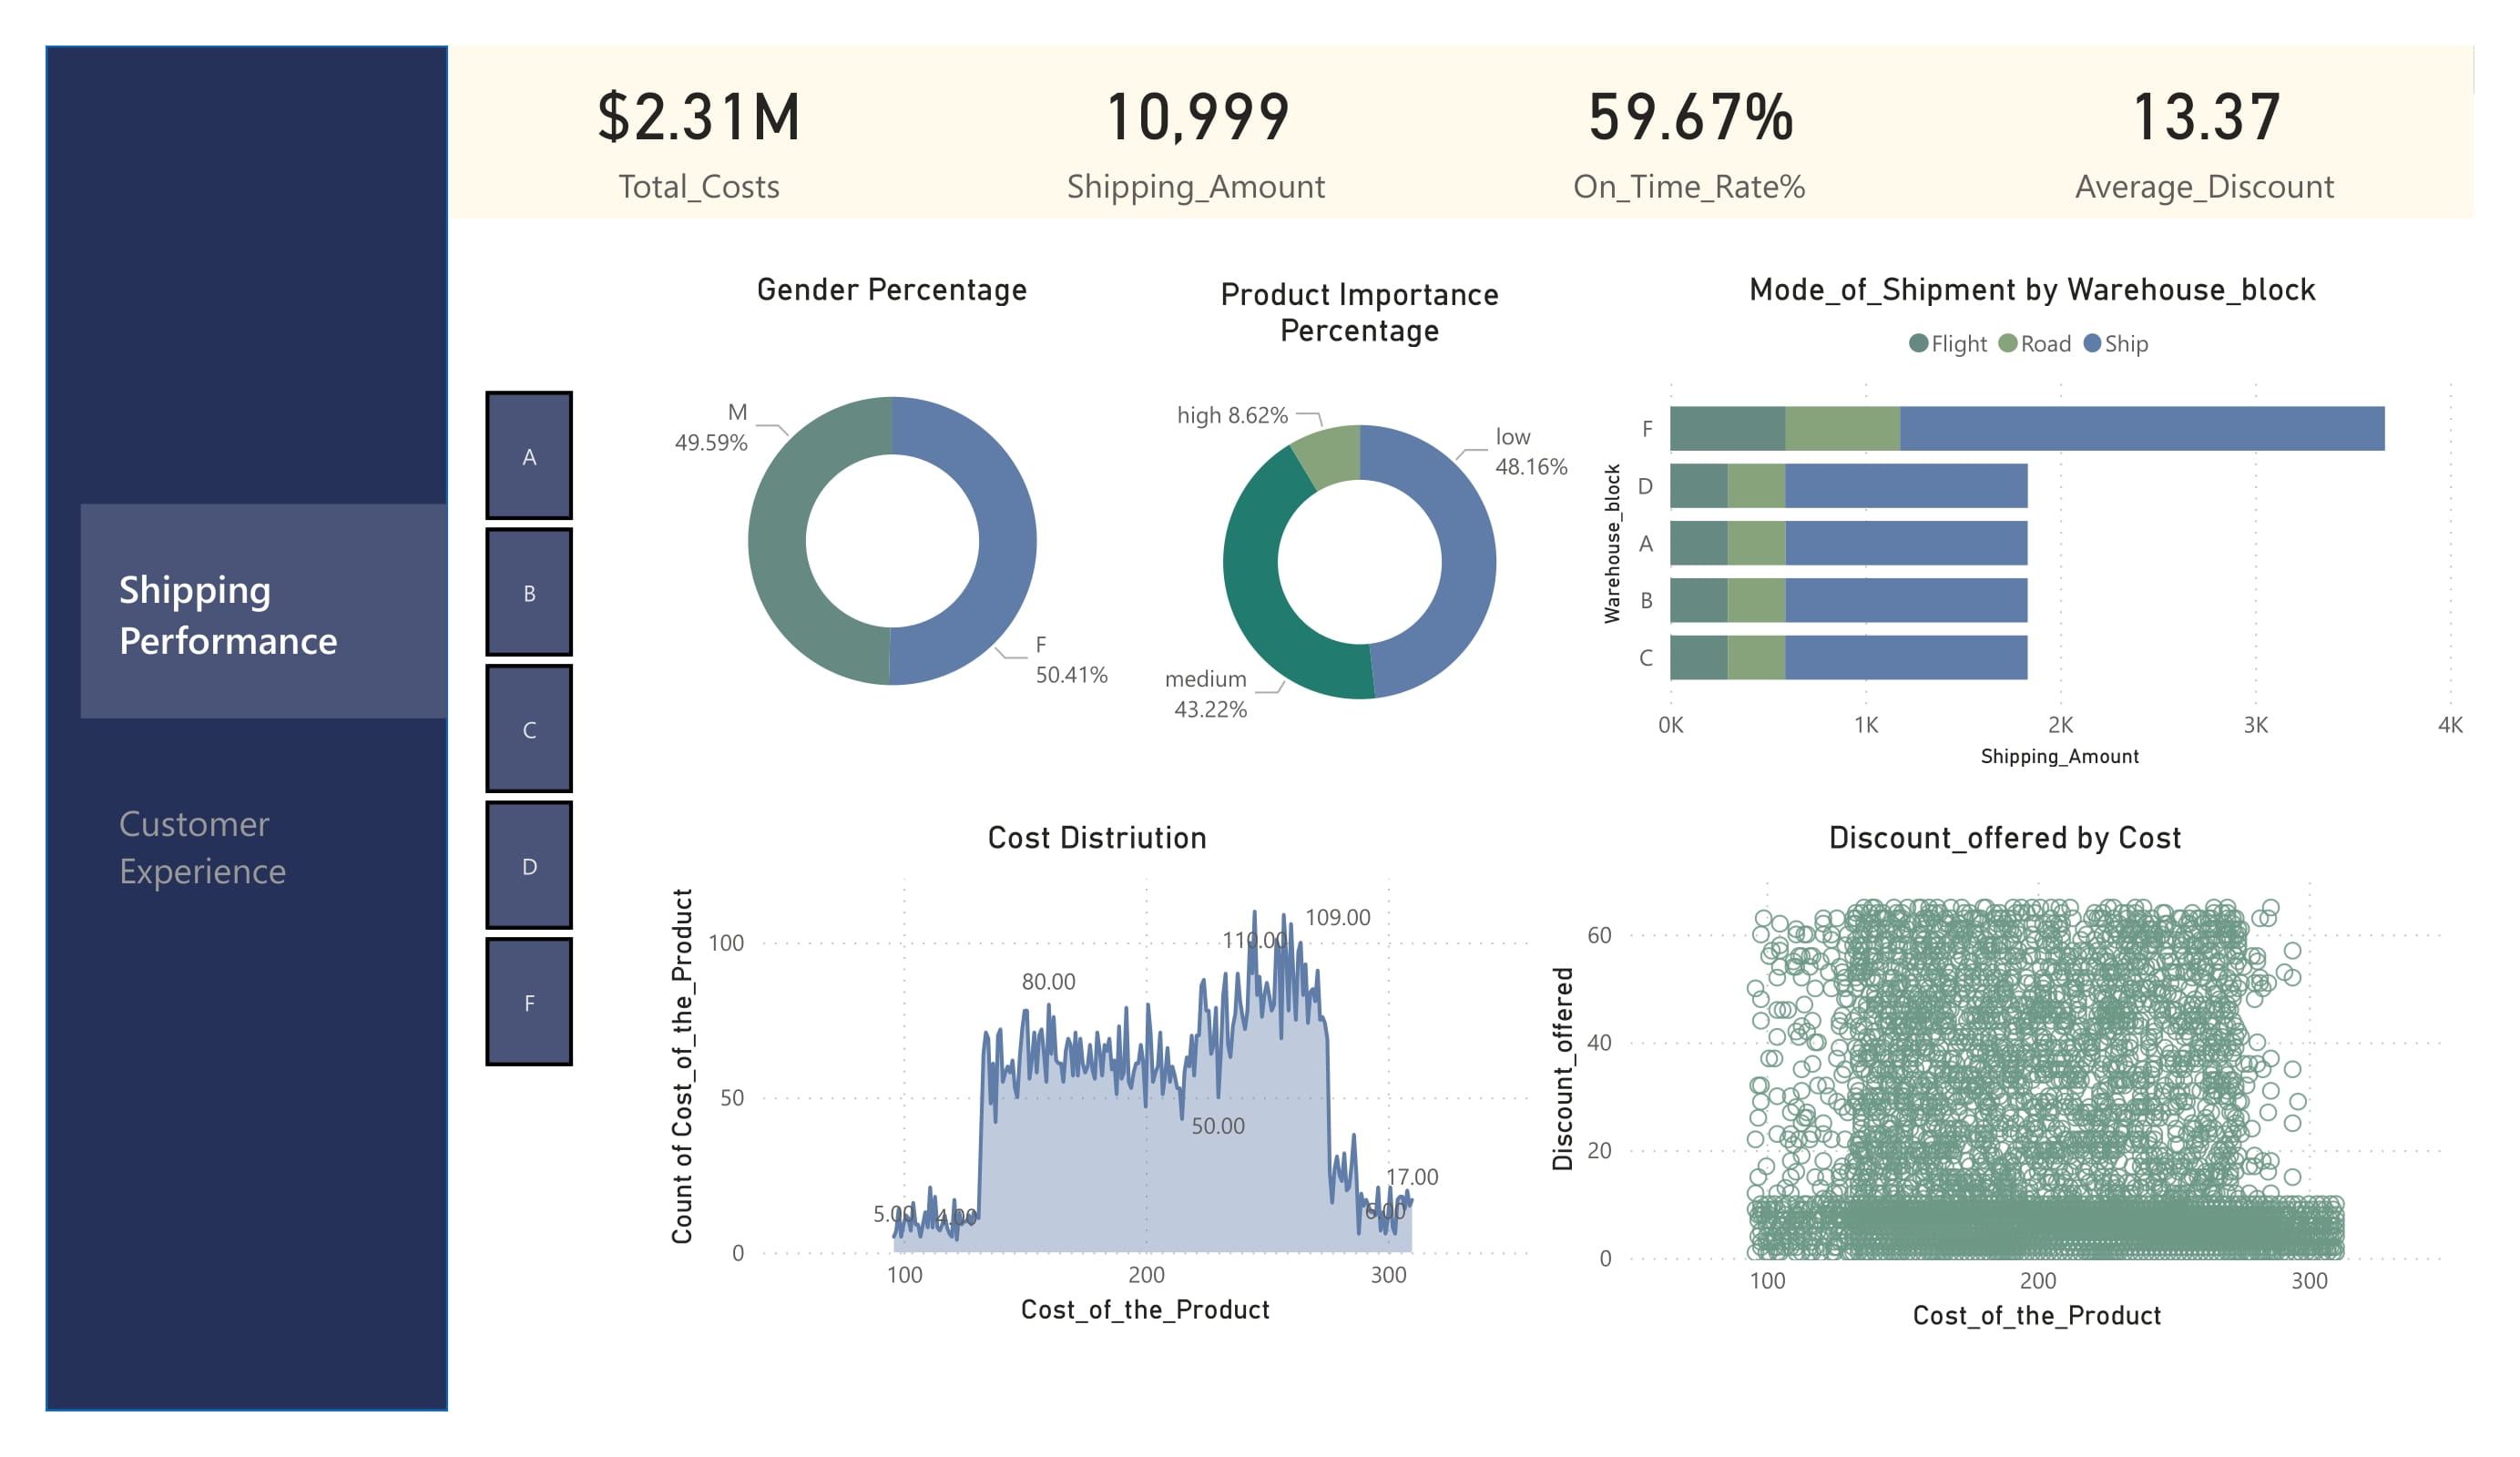

What the dashboard file says about the page in this screenshot:
{"tool":"powerbi","page":{"name":"Shipping Performance","canvas":[1280,720],"ordinal":0},"visuals":[{"type":"slicer","fields":{"Values":["e_commerce_shipping.Warehouse_block"]},"box":[205.8,175.2,96.4,369.6],"z":0},{"type":"scatterChart","title":"Discount_offered by Cost","fields":{"X":["e_commerce_shipping.Cost_of_the_Product"],"Y":["e_commerce_shipping.Discount_offered"]},"box":[786.6,407.3,493.1,275],"z":1000},{"type":"donutChart","title":"Gender Percentage","fields":{"Y":["CountNonNull(e_commerce_shipping.Gender)"],"Category":["e_commerce_shipping.Gender"]},"box":[322.3,118.2,247.9,267.2],"z":2000},{"type":"barChart","title":"Mode_of_Shipment by Warehouse_block ","fields":{"Category":["e_commerce_shipping.Warehouse_block"],"Y":["e_commerce_shipping.Shipping_Amount"],"Series":["e_commerce_shipping.Mode_of_Shipment"]},"box":[815.5,118.2,464.2,267.2],"z":3000},{"type":"shape","box":[212,0,1067.7,91.1],"z":4000},{"type":"card","fields":{"Values":["e_commerce_shipping.Total_Sales"]},"box":[212,0,264.5,91.1],"z":5000},{"type":"card","fields":{"Values":["e_commerce_shipping.Shipping_Amount"]},"box":[476.5,0,260.1,91.1],"z":6000},{"type":"card","fields":{"Values":["e_commerce_shipping.On_Time_Rate%"]},"box":[736.6,0,260.1,91.1],"z":7000},{"type":"card","fields":{"Values":["e_commerce_shipping.Average_Discount"]},"box":[996.8,0,282.9,91.1],"z":8000},{"type":"shape","box":[0,0,212,720],"z":9000},{"type":"pageNavigator","box":[18.4,241.8,193.6,236.5],"z":10000},{"type":"donutChart","title":"Product Importance Percentage","fields":{"Category":["e_commerce_shipping.Product_importance"],"Y":["CountNonNull(e_commerce_shipping.Product_importance)"]},"box":[570.2,120.9,245.3,264.5],"z":11000},{"type":"areaChart","title":"Cost Distriution","fields":{"Category":["e_commerce_shipping.Cost_of_the_Product"],"Y":["CountNonNull(e_commerce_shipping.Cost_of_the_Product)"]},"box":[322.3,407.3,464.2,272.4],"z":12000}]}

Visuals, with their boxes in screenshot pixels (x1, y1, x2, y2):
slicer - e_commerce_shipping.Warehouse_block: box(436, 378, 619, 1079)
"Discount_offered by Cost" scatterChart: box(1538, 819, 2474, 1340)
"Gender Percentage" donutChart: box(658, 270, 1127, 777)
"Mode_of_Shipment by Warehouse_block " barChart: box(1593, 270, 2474, 777)
shape: box(448, 46, 2474, 219)
card - e_commerce_shipping.Total_Sales: box(448, 46, 950, 219)
card - e_commerce_shipping.Shipping_Amount: box(950, 46, 1444, 219)
card - e_commerce_shipping.On_Time_Rate%: box(1444, 46, 1937, 219)
card - e_commerce_shipping.Average_Discount: box(1937, 46, 2474, 219)
shape: box(46, 46, 448, 1411)
pageNavigator: box(80, 504, 448, 953)
"Product Importance Percentage" donutChart: box(1127, 275, 1593, 777)
"Cost Distriution" areaChart: box(658, 819, 1538, 1335)
